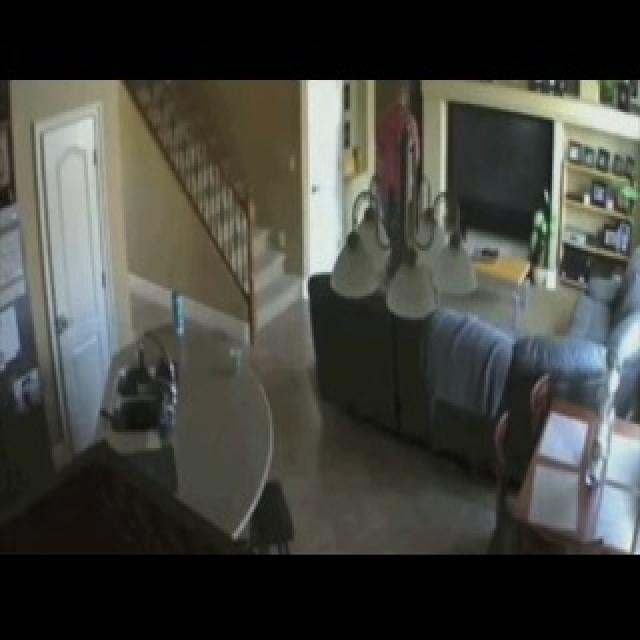thief: (373, 78, 441, 192)
